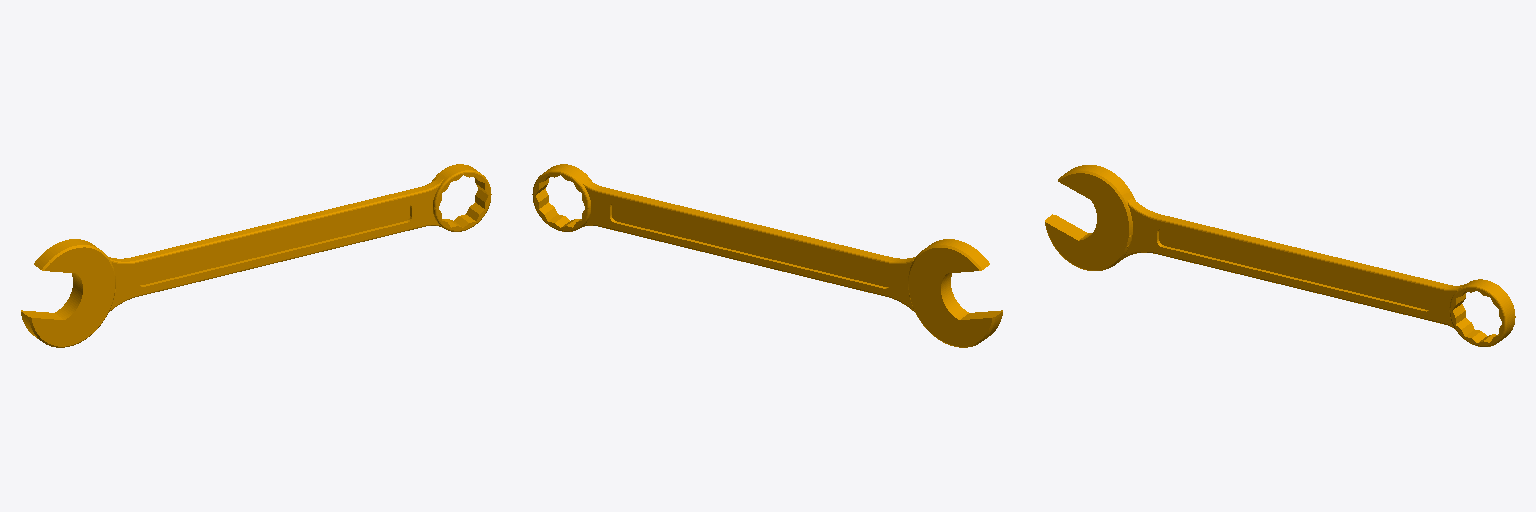
robot.urdf — wrench_1_L1.00_T1.00:
<?xml version="1.0" encoding="utf-8"?>
<robot name="wrench_1_L1.00_T1.00">
  <link name="wrench_1_L1.00_T1.00Link">
    <contact>
      <lateral_friction value="1"/>
    </contact>
    <inertial>
      <origin rpy="0 0 0" xyz="0 0 0"/>
      <mass value="0.0"/>
      <inertia ixx="0" ixy="0" ixz="0" iyy="0" iyz="0" izz="0"/>
    </inertial>
    <visual>
      <origin rpy="0 0 0" xyz="0 0 0"/>
      <geometry>
        <mesh filename="generated_stl/wrench/wrench_1/wrench_1_L1.00_T1.00/wrench_1_L1.00_T1.00.stl" scale="0.01 0.01 0.01"/>
      </geometry>
    </visual>
    <collision>
      <origin rpy="0 0 0" xyz="0 0 0"/>
      <geometry>
        <mesh filename="generated_stl/wrench/wrench_1/wrench_1_L1.00_T1.00/wrench_1_L1.00_T1.00.stl" scale="0.01 0.01 0.01"/>
      </geometry>
    </collision>
  </link>
</robot>

--- Render facts (derived) ---
3 views of the same robot in one strip: view 1: azimuth 30°, elevation 25°; view 2: azimuth 150°, elevation 25°; view 3: azimuth 330°, elevation 25° (orthographic).
Model wrench_1_L1.00_T1.00 with 1 links and 0 joints (none), rooted at wrench_1_L1.00_T1.00Link, posed every joint at zero.
Visible links, largest first — view 1: wrench_1_L1.00_T1.00Link; view 2: wrench_1_L1.00_T1.00Link; view 3: wrench_1_L1.00_T1.00Link.
Link boxes in pixels (bbox=[...]): wrench_1_L1.00_T1.00Link: bbox=[21, 164, 491, 347]; wrench_1_L1.00_T1.00Link: bbox=[532, 164, 1002, 347]; wrench_1_L1.00_T1.00Link: bbox=[1045, 165, 1515, 346].
Bounding box of the posed robot: 0.1 × 0.0038 × 0.0206 m (x, y, z).
1 mesh visuals loaded from 1 distinct referenced files (1 binary STL).